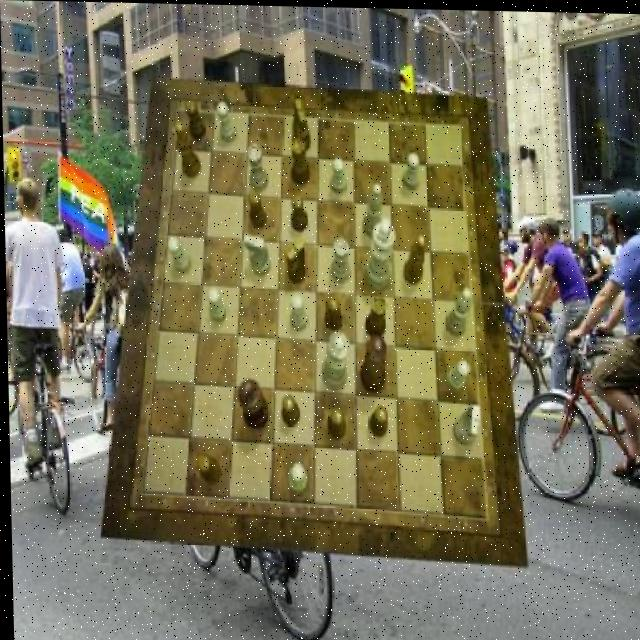bishop: (174, 122, 200, 178), (401, 231, 425, 283)
black-bishop: (234, 378, 268, 426)
black-king: (290, 97, 309, 151), (284, 237, 305, 283)
black-knight: (185, 100, 205, 141), (194, 452, 217, 484), (289, 194, 307, 231), (246, 190, 264, 227), (366, 405, 386, 437), (323, 295, 341, 330), (325, 405, 343, 438), (280, 393, 298, 425)
black-pawn: (358, 332, 386, 393)
black-queen: (362, 294, 386, 337), (289, 138, 309, 184)
black-rook: (444, 285, 472, 334), (361, 181, 383, 236)
white-bishop: (362, 216, 394, 289)
white-king: (450, 403, 478, 444), (243, 232, 268, 275)
white-knight: (166, 235, 189, 273), (216, 102, 236, 143), (444, 358, 468, 391), (401, 151, 419, 188), (289, 293, 307, 329), (206, 287, 224, 322), (286, 462, 306, 493), (329, 156, 346, 191)
white-pawn: (318, 330, 346, 390)
white-queen: (245, 143, 266, 191), (328, 236, 349, 282)
